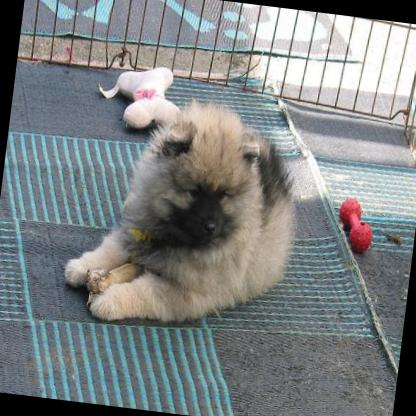keeshond: (58, 82, 308, 342)
